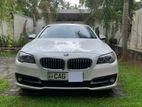car: (13, 17, 120, 97)
